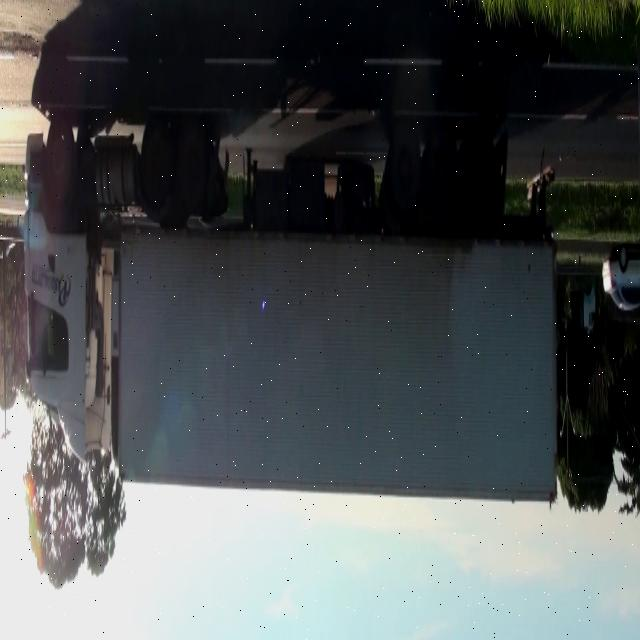-axle: (462, 138, 498, 228), (423, 134, 458, 224), (141, 115, 173, 205), (386, 137, 421, 218), (177, 119, 206, 207), (45, 120, 74, 207)
